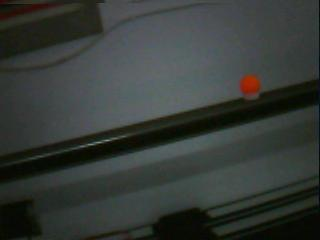oball: (239, 74, 261, 95)
